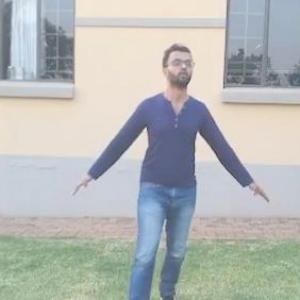land: (58, 37, 248, 286)
